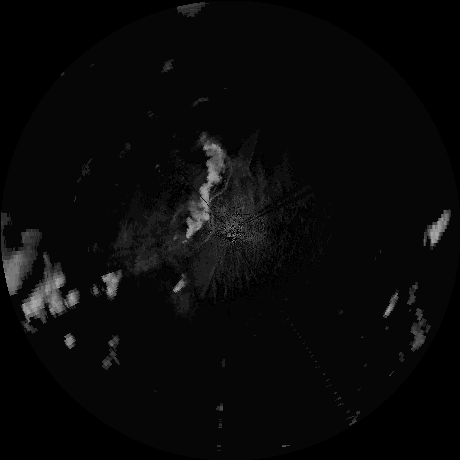frontgust: (208, 161, 233, 199), (201, 206, 216, 243), (170, 199, 187, 221)
